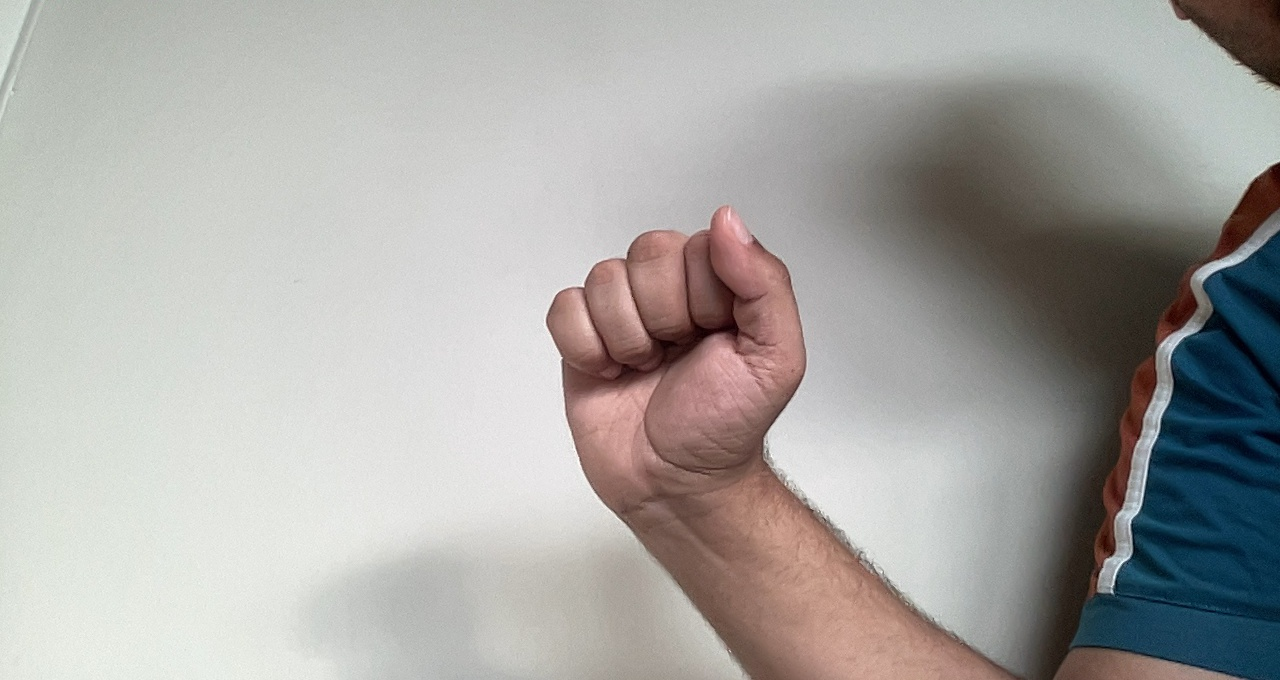closedfist: (535, 195, 818, 530)
